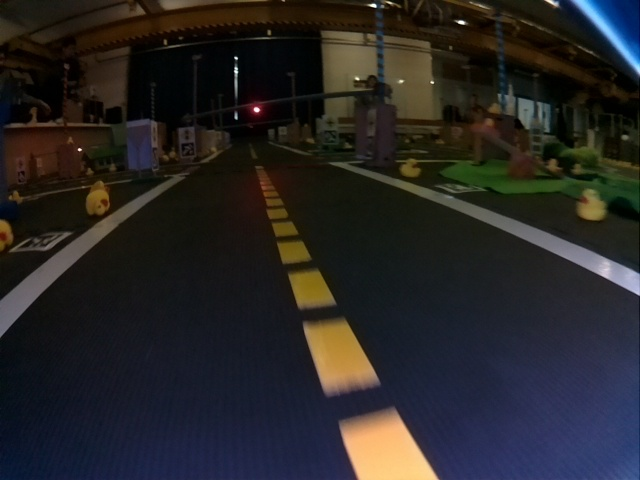Duckie: (576, 188, 607, 221), (85, 190, 111, 215), (400, 158, 422, 180), (1, 220, 13, 250), (10, 191, 23, 204), (549, 158, 560, 173)
QR code: (15, 232, 72, 251), (438, 183, 486, 194), (151, 149, 161, 168), (324, 130, 337, 144), (366, 137, 375, 153), (183, 145, 193, 155)
Traffic light: (253, 105, 262, 114)
